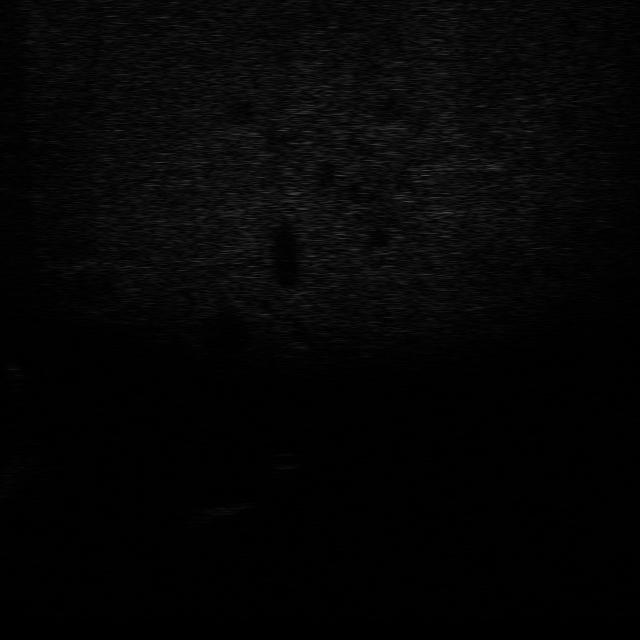ball: (261, 448, 310, 479)
square cage: (176, 493, 262, 532)
